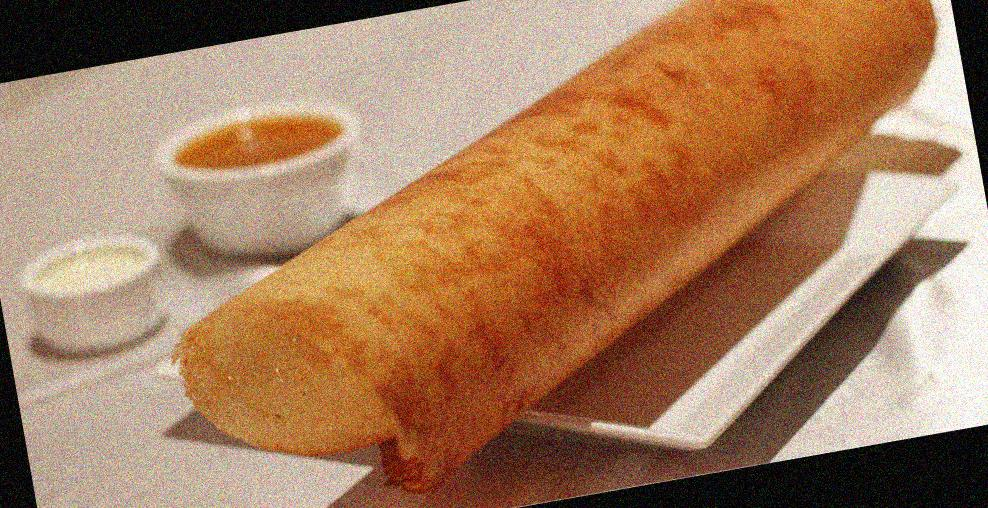dosa: (174, 2, 942, 491)
